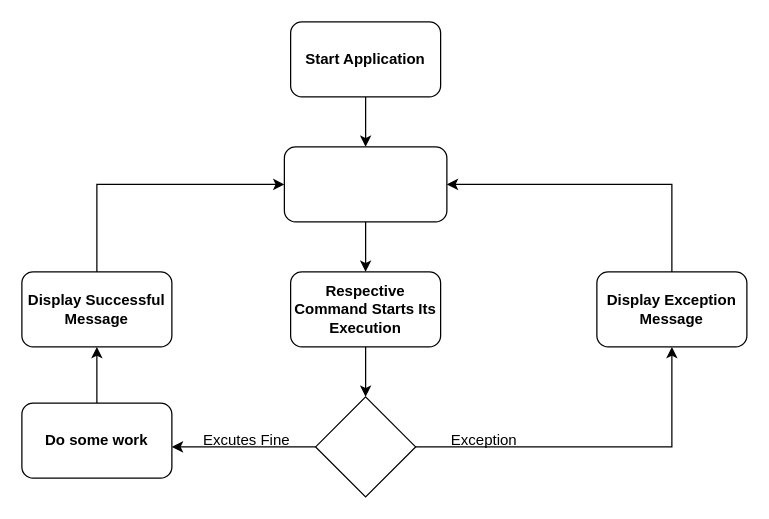
Some shapes in this 769 by 519 pixel diagram are drawn without their labels. Here are the shapes that lost their labels. From the top down, the centre of each, then its label:
(x=365, y=184): Select Option From Menu
(x=365, y=446): User Input
